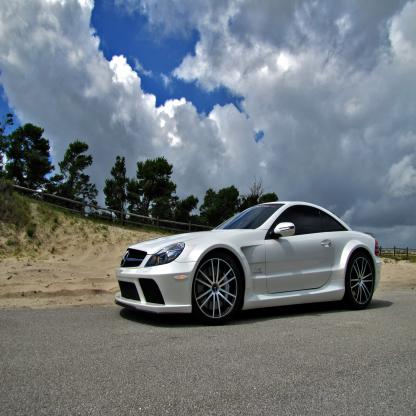Vehicle: (113, 199, 381, 326)
